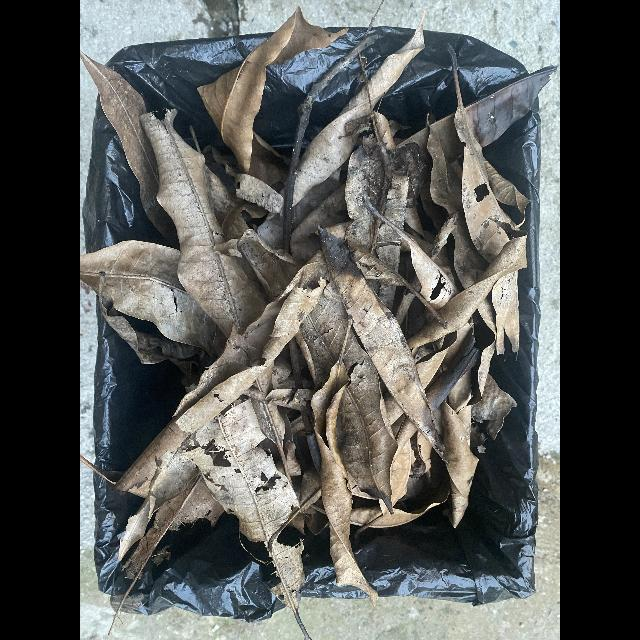biowaste: (113, 278, 326, 499), (318, 225, 450, 467), (139, 109, 268, 339), (197, 5, 348, 184), (293, 10, 426, 207), (80, 51, 180, 250), (311, 316, 378, 604), (80, 240, 227, 368), (447, 44, 530, 256), (181, 395, 299, 543), (406, 217, 529, 348), (172, 293, 289, 417), (336, 326, 399, 515), (426, 113, 491, 289), (275, 251, 350, 394), (98, 296, 200, 382), (443, 368, 479, 528), (350, 472, 451, 528), (269, 525, 312, 640)
